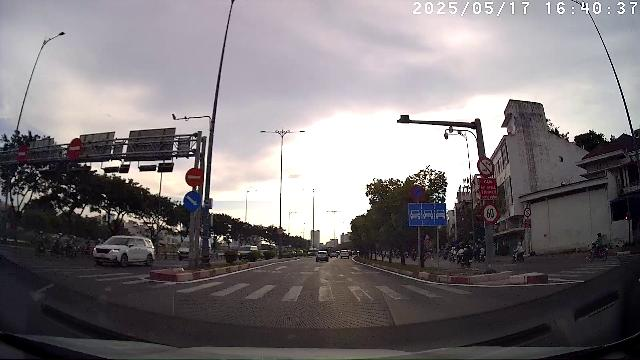102-cam-di-nguoc-chieu: (185, 167, 204, 187), (68, 138, 82, 160), (17, 144, 27, 164)
127-toc-do-toi-da-60: (481, 202, 499, 224)
130-cam-dung-va-do-xe: (410, 185, 426, 201)
302a-huong-phai-di-vong-chuong-ngai-vat-1: (183, 190, 202, 211)
